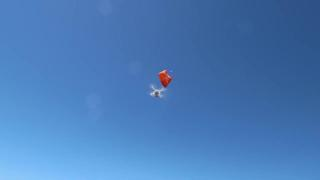UAV: (150, 86, 164, 98)
